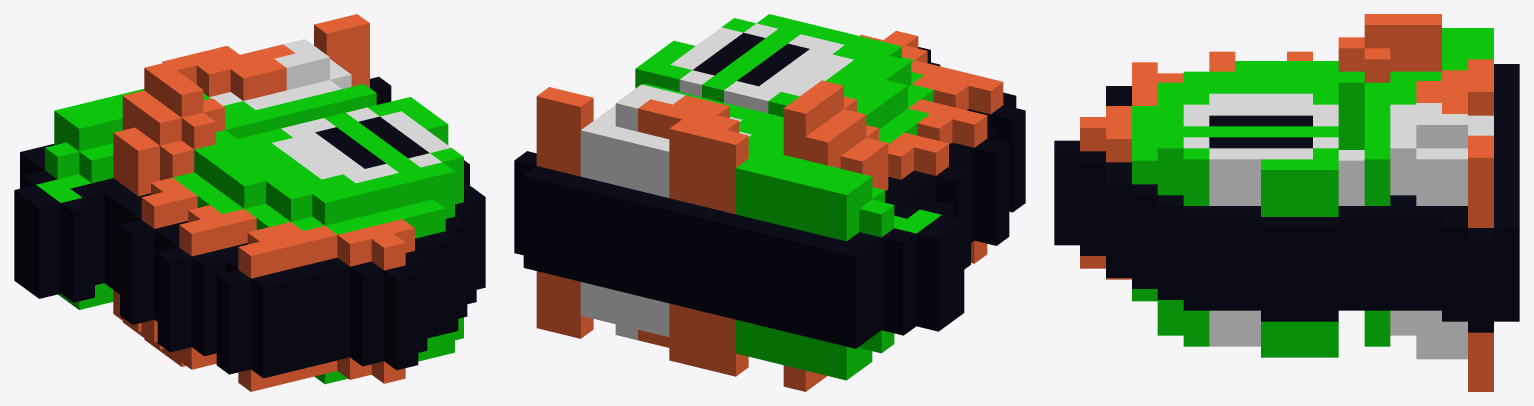
Rendered from dino-walk1.obj.
3 views of the same model, side by side, from view 1: azimuth 30°, elevation 25°; view 2: azimuth 150°, elevation 25°; view 3: azimuth 270°, elevation 25° (orthographic). The views are drawn at different scales.
Size of the model in its own units: 1.8 by 1.2 by 1.8.
1 material, 1 textured.
